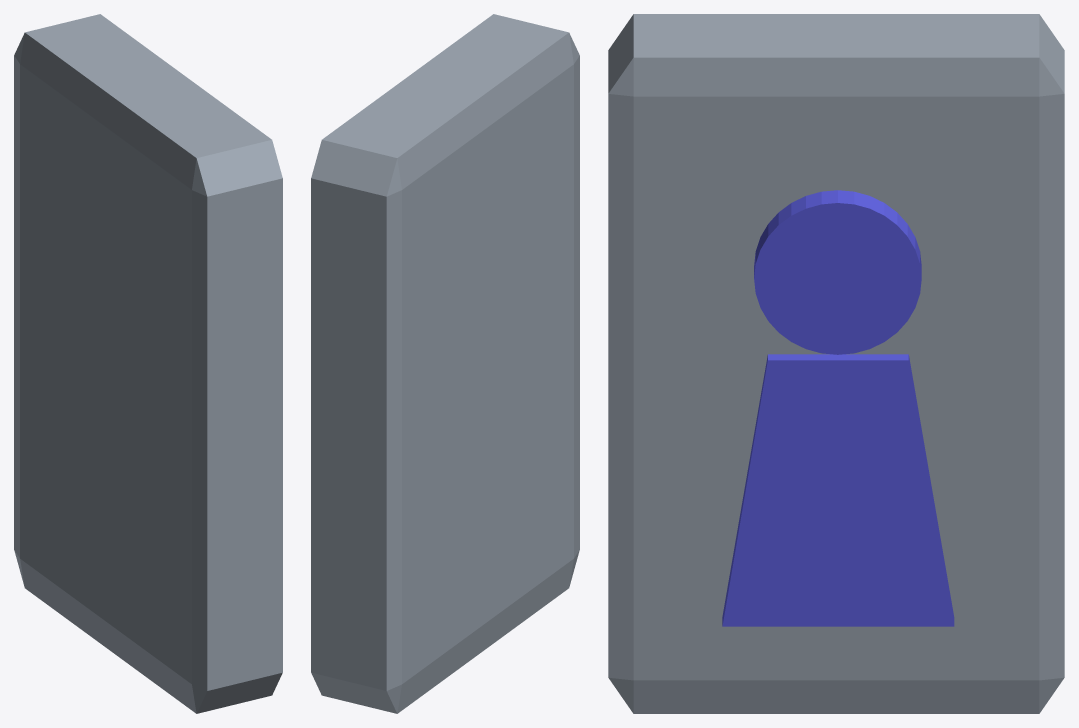
Rendered from CartelHombre.fbx.
The picture shows the model from 3 angles, left to right: view 1: azimuth 30°, elevation 25°; view 2: azimuth 150°, elevation 25°; view 3: azimuth 270°, elevation 25°; orthographic projection. The views are drawn at different scales.
Parts seen in each view (by area): view 1: CartelHombre; view 2: CartelHombre; view 3: CartelHombre, Cube.001, Cylinder.
Part boxes in pixels (x1,y1,x2,y2): CartelHombre: [14, 14, 282, 713]; CartelHombre: [311, 14, 579, 713]; CartelHombre: [608, 14, 1064, 713]; Cube.001: [722, 354, 954, 626]; Cylinder: [754, 190, 921, 354].
Bounding box in the file's own units: 40.35 × 200 × 126.
